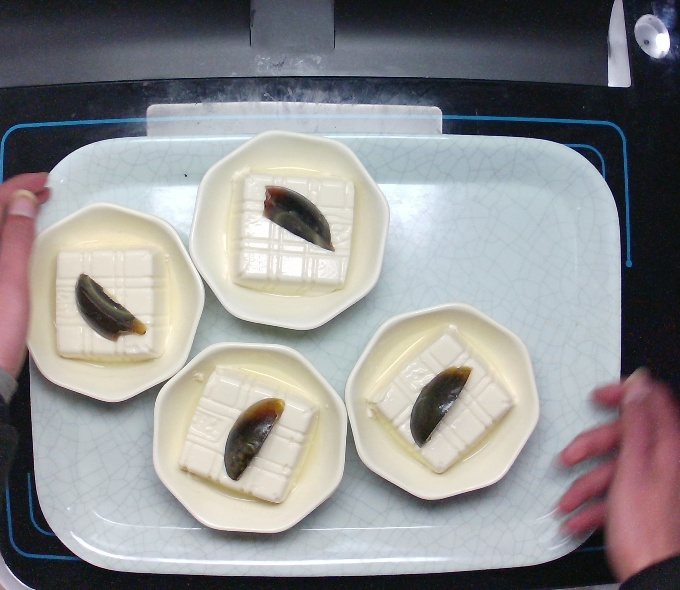wcq-PiDanDouFu: (368, 318, 516, 481), (171, 359, 323, 504), (220, 160, 367, 299), (46, 239, 182, 369)
